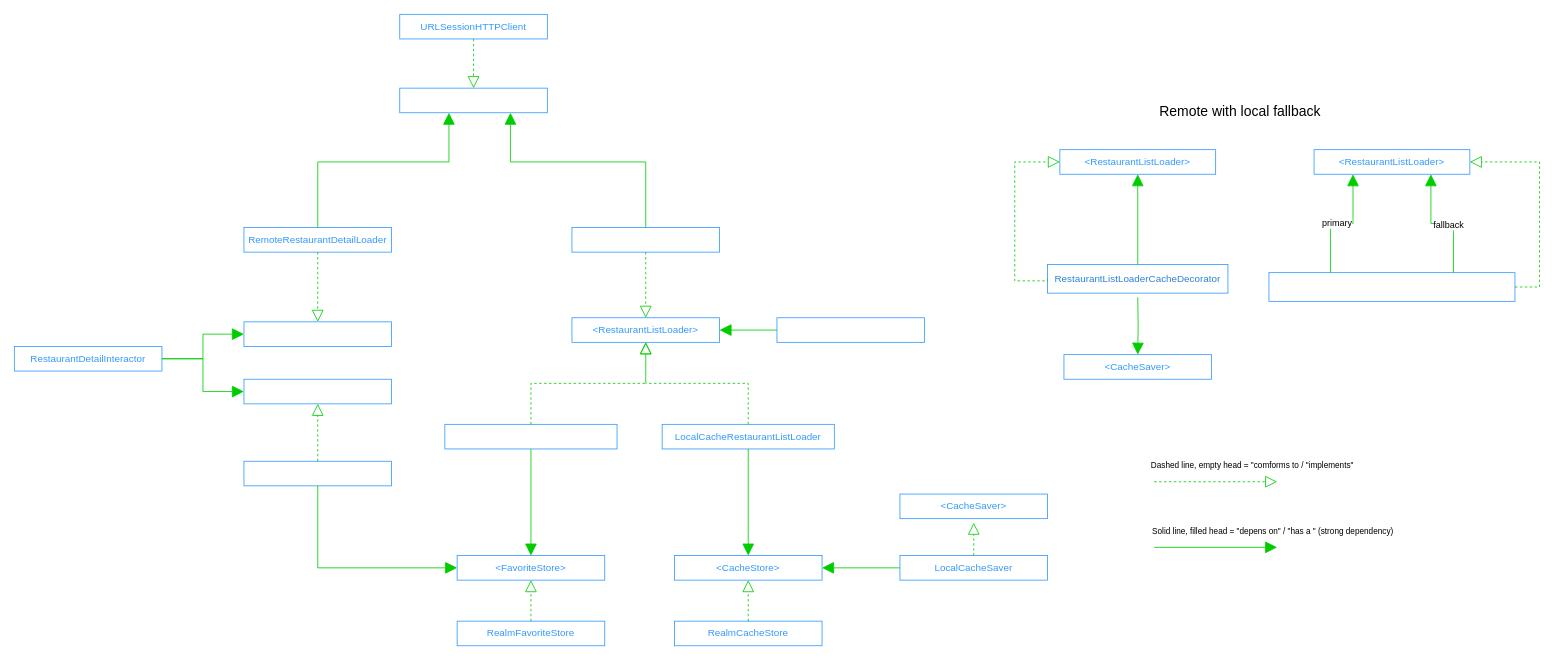
The diagram is 1565 pixels wide and 660 high, and some of its shapes have lost their labels. The centre of each missing label's shape, as x and y in pixels:
"<FavoriteService>" goes at point (317, 391).
"<HTTPClient>" goes at point (473, 100).
"<RestaurantDetailLoader>" goes at point (317, 333).
"LocalFavoriteRestaurantListLoader" goes at point (530, 436).
"LocalFavoriteService" goes at point (317, 473).
"RemoteRestaurantListLoader" goes at point (645, 239).
"RestaurantListInteractor" goes at point (850, 329).
"RestaurantListLoaderWithFallbackComposite" goes at point (1391, 286).
